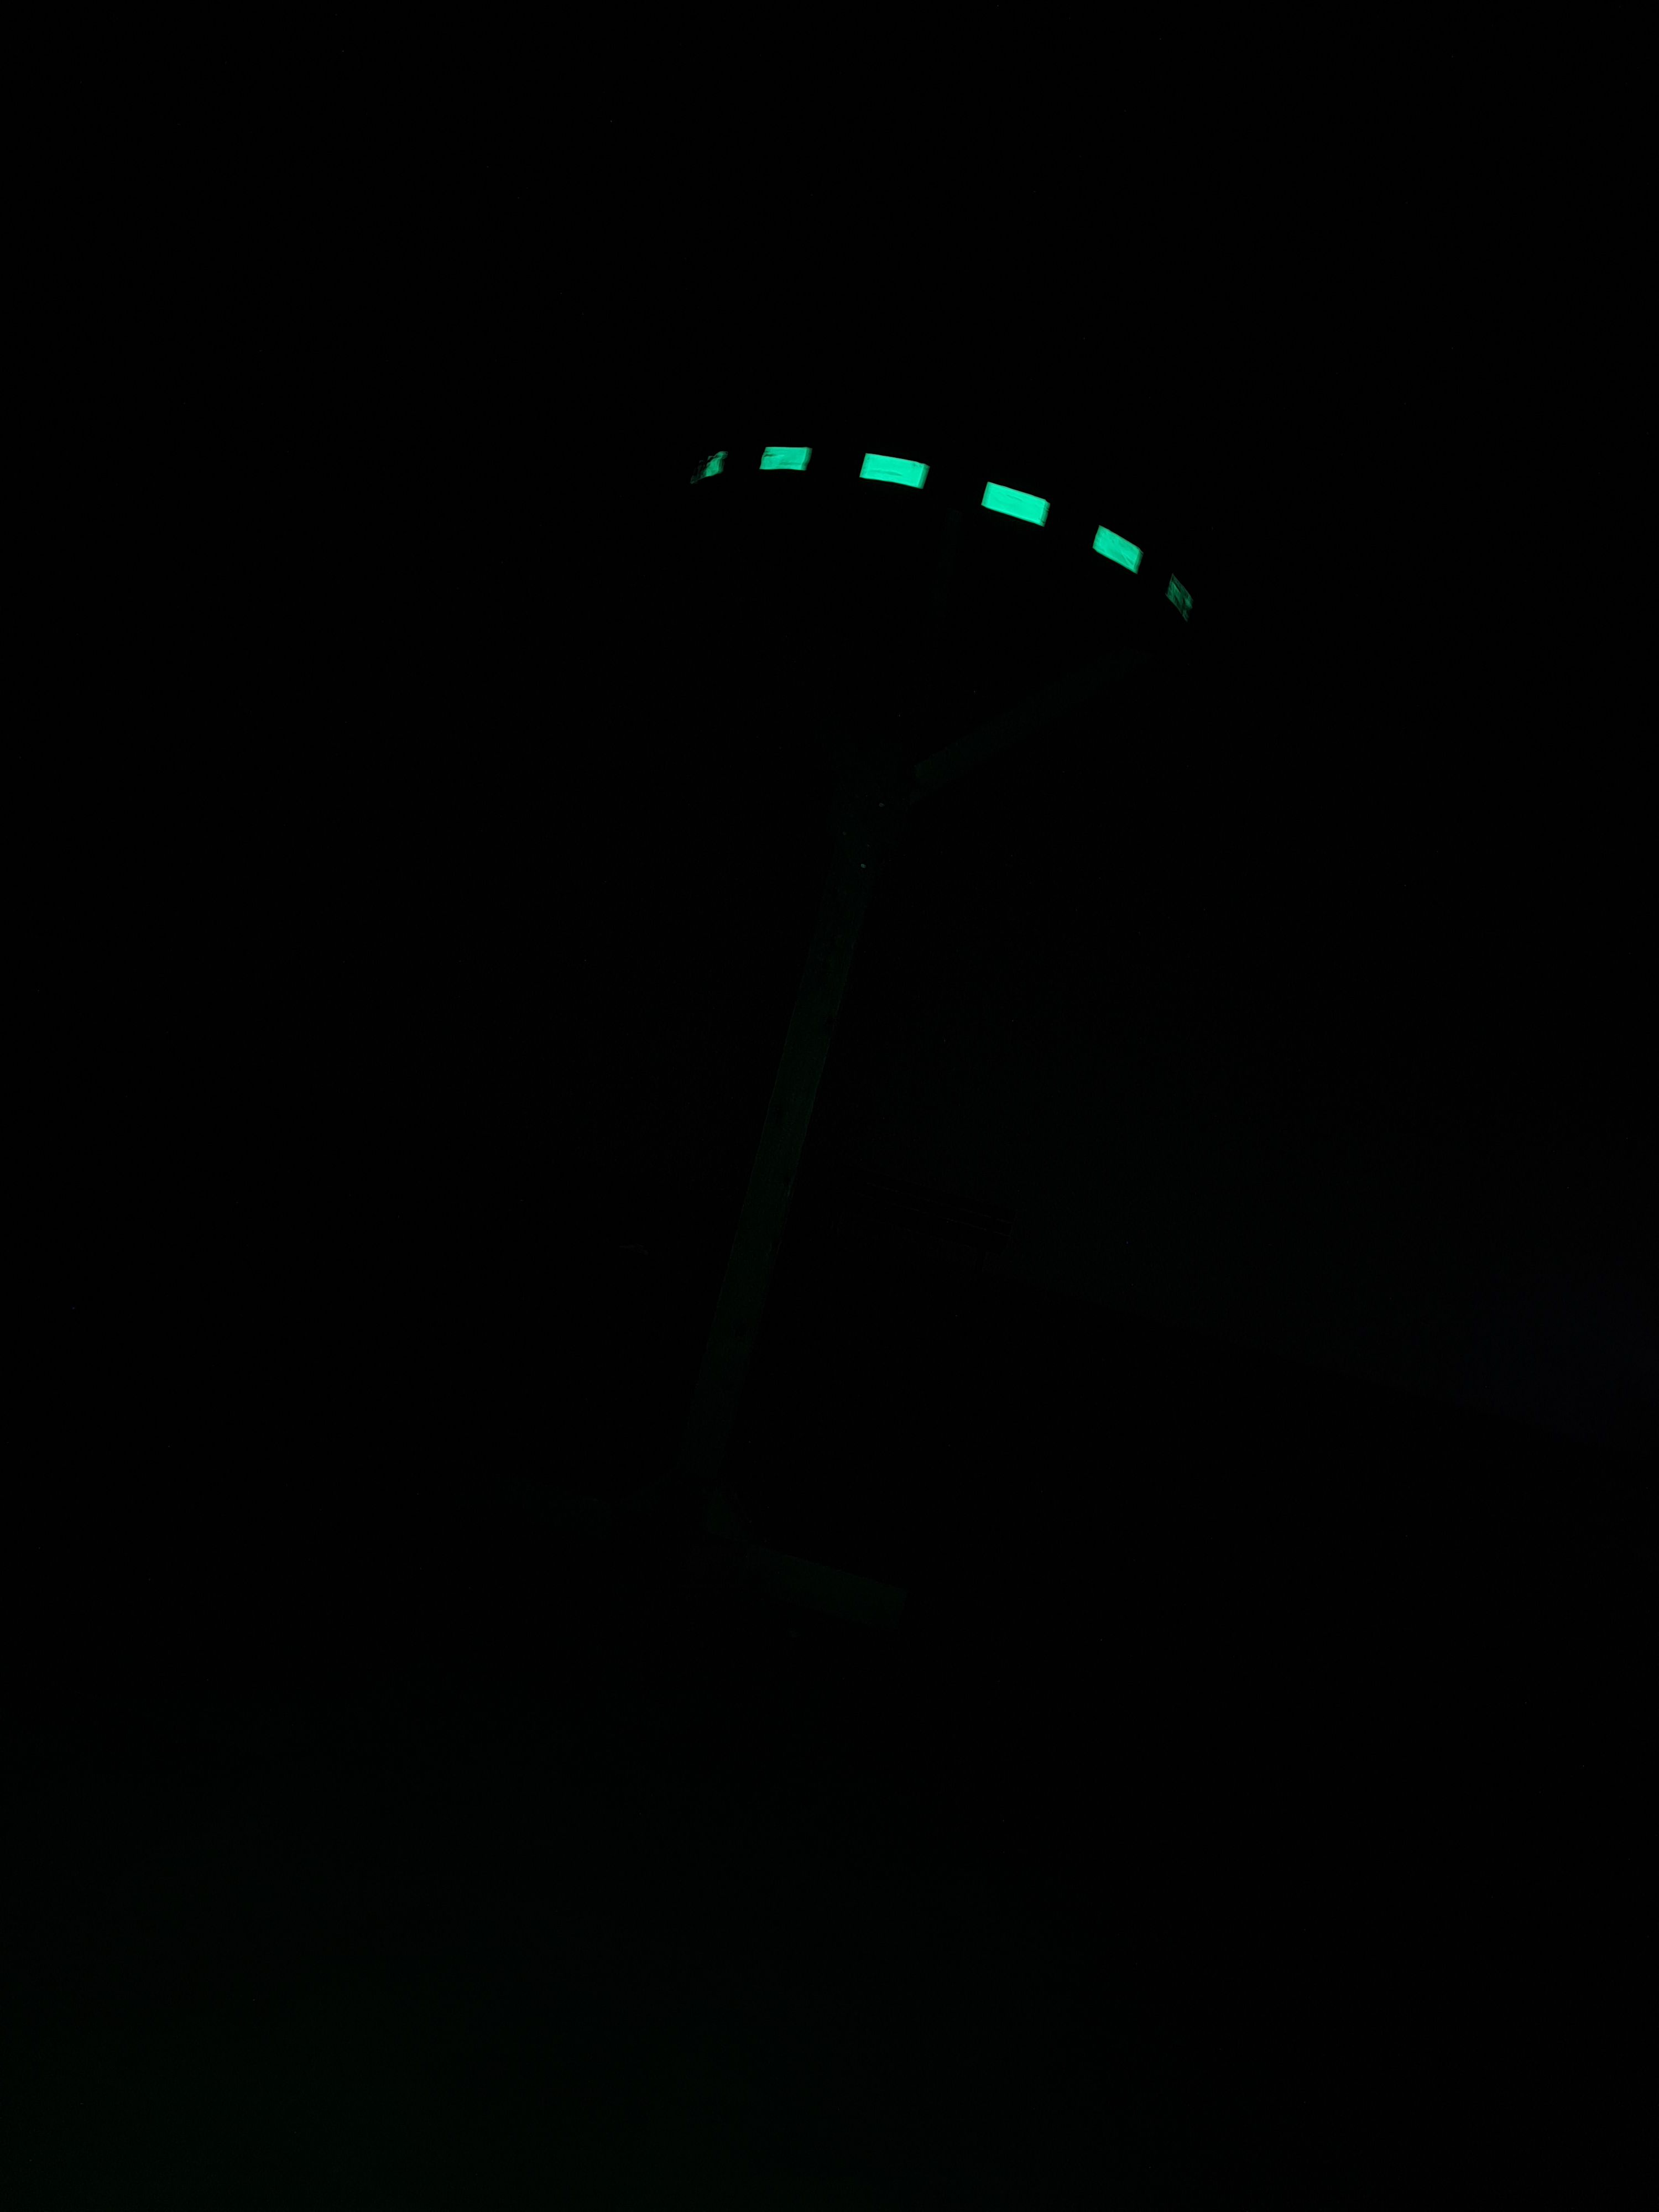hoop: (694, 435, 1192, 625)
